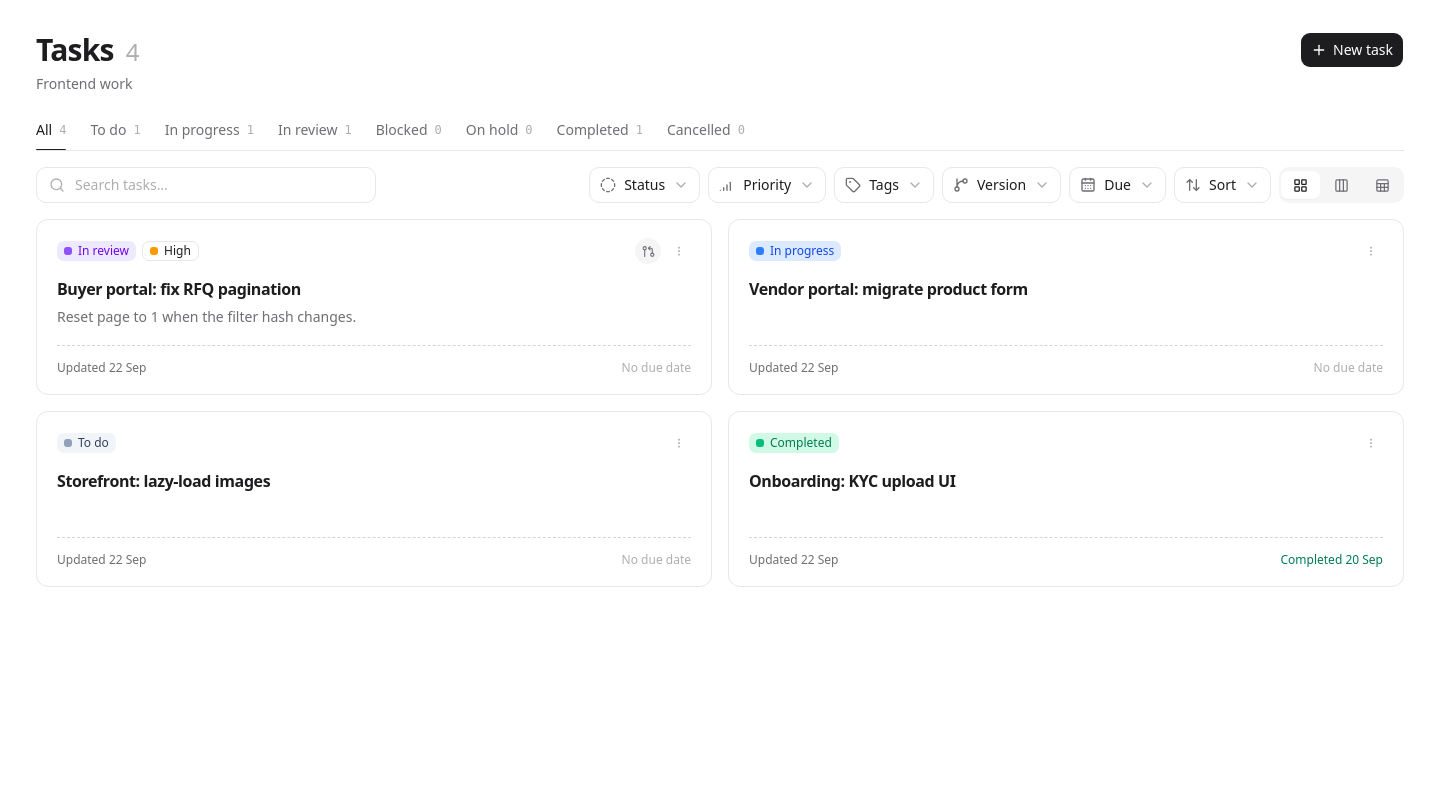
Test case: TasksPage › filters by tab through the URL
This screenshot has width=1440, height=810.
Expected: the heading "Storefront: lazy-load images" is shown, [57,470,270,492]
What coordinates should you click on to do the following:
click the tab "In progress 1"
I would click on:
 (209, 130)
Its box is [165,110,254,150].
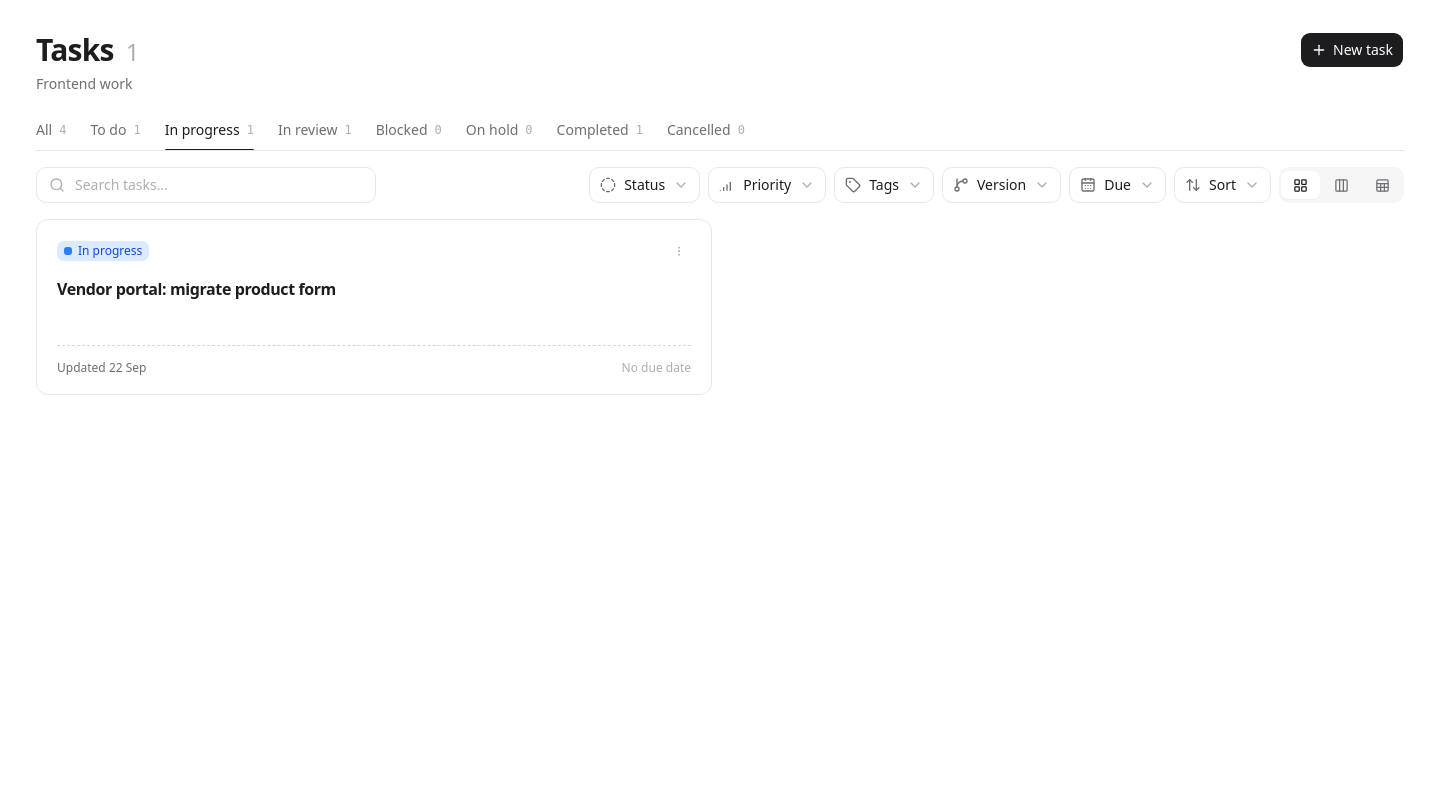
Expected: the heading "Vendor portal: migrate product form" is shown, [57,278,336,300]
Now the heading "Storefront: lazy-load images" is gone
